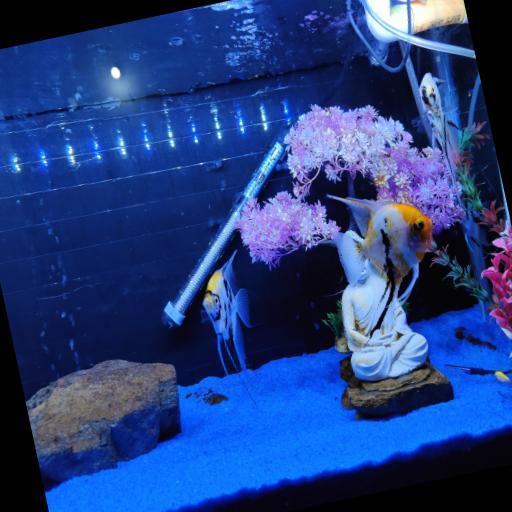Fish: (328, 195, 432, 299), (202, 251, 251, 384), (419, 73, 463, 208), (445, 364, 510, 382)
